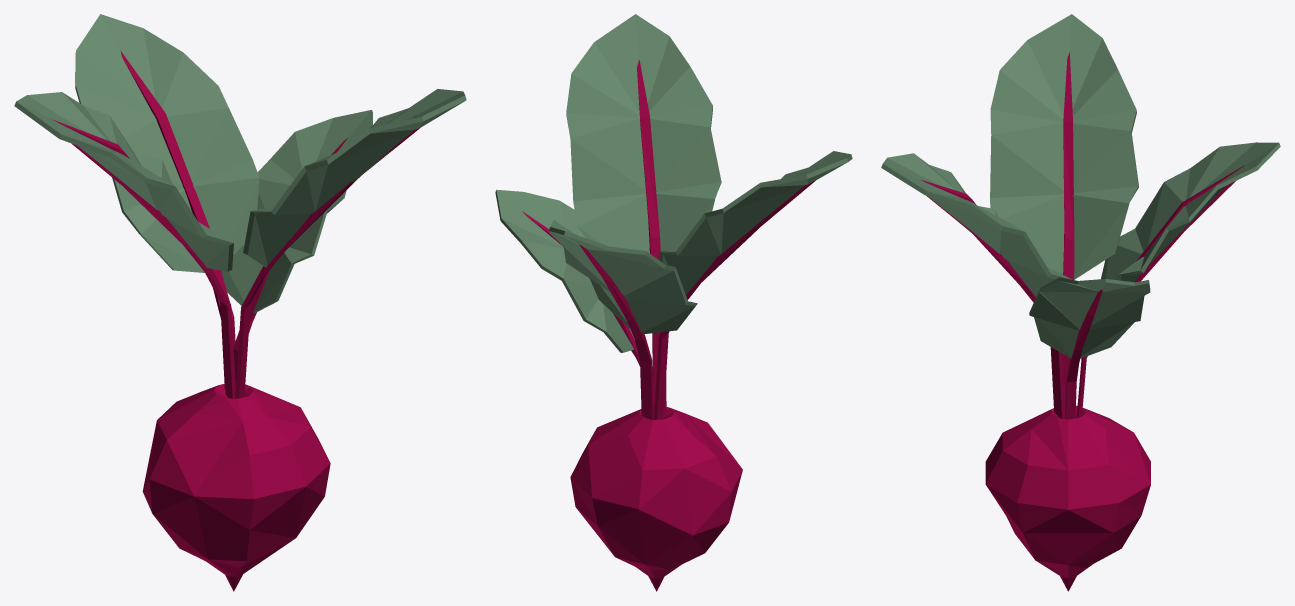
Rendered from beet.fbx.
3 views of the same model, side by side, from view 1: azimuth 30°, elevation 25°; view 2: azimuth 150°, elevation 25°; view 3: azimuth 270°, elevation 25° (orthographic). The views are drawn at different scales.
Parts seen in each view (by area): view 1: beet; view 2: beet; view 3: beet.
Part boxes in pixels (x1,y1,x2,y2): beet: [14, 14, 466, 591]; beet: [495, 14, 852, 591]; beet: [881, 14, 1280, 591].
Size of the model in its own units: 37.11 by 50.89 by 38.09.
